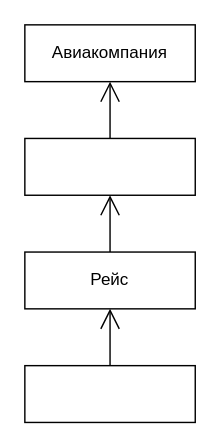
The diagram is 220 pixels wide and 447 high, and some of its shapes have lost their labels. The shapes that lost their labels are listed below. From the top down, each one's centre as x and y in pixels, then its label:
(109,166): Список рейсов
(109,393): Лётная бригада
